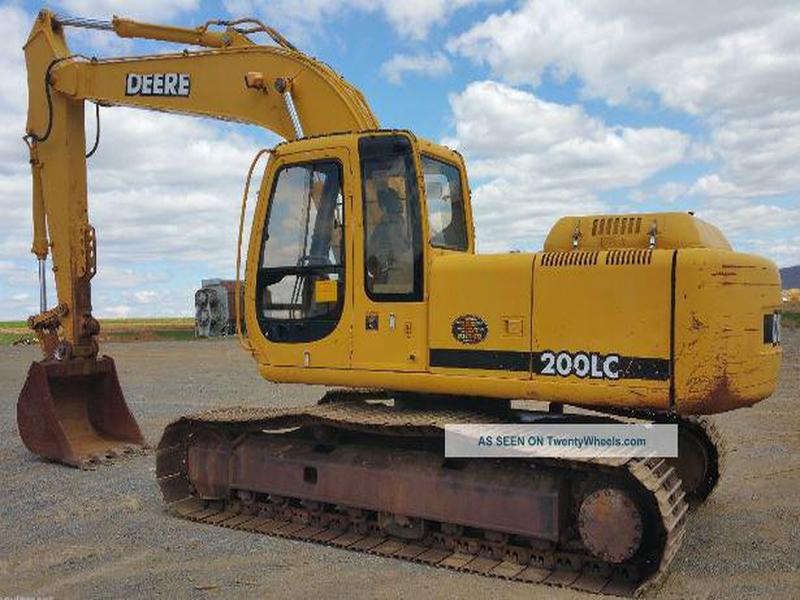shovel: (14, 8, 787, 600)
